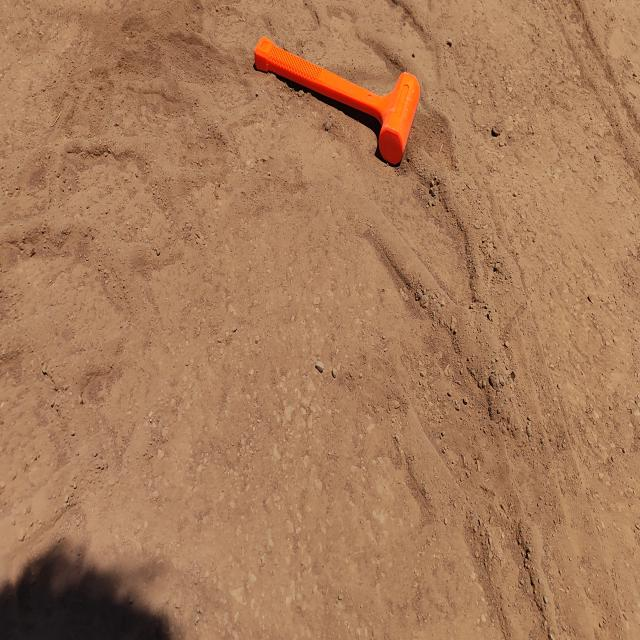Orange_hammer: (253, 34, 420, 166)
